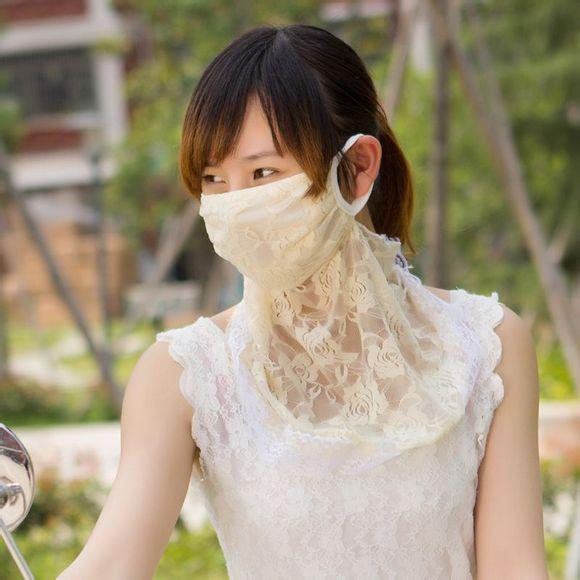OK: (196, 121, 363, 288)
